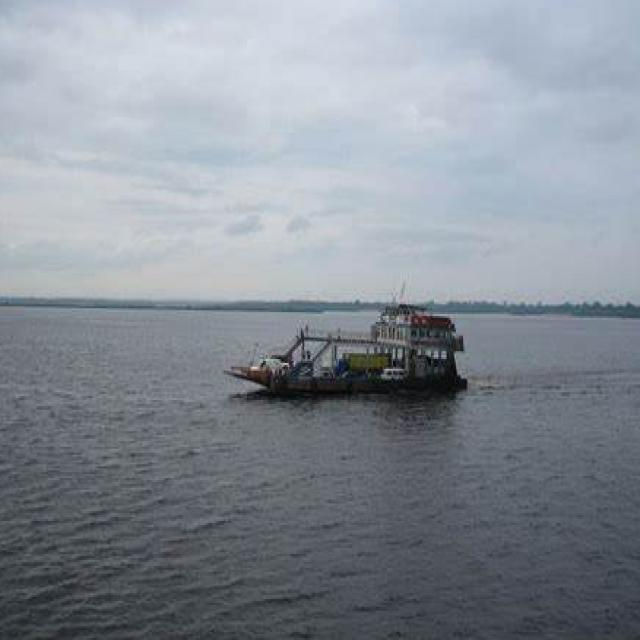houseboat: (225, 297, 467, 400)
